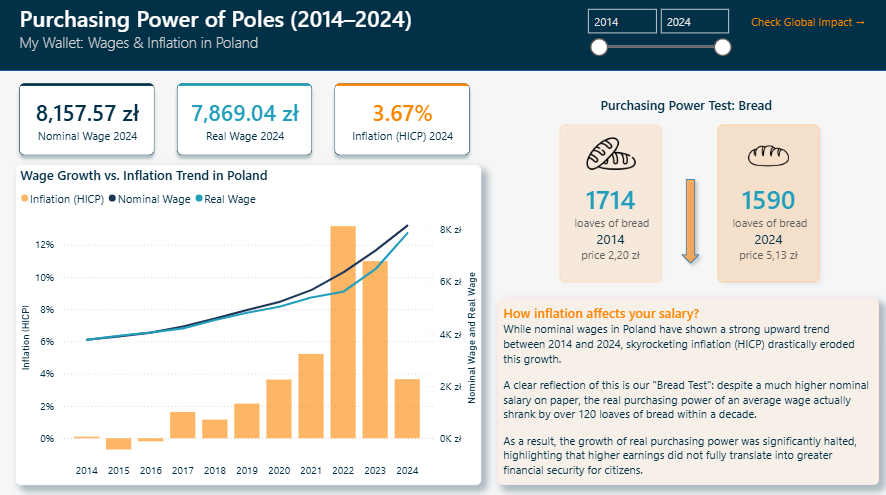

This screenshot's page, from the dashboard's own definition file:
{"tool":"powerbi","page":{"name":"My Wallet: Wages & Inflation in Poland","canvas":[1280,720],"ordinal":0},"visuals":[{"type":"shape","box":[1025.3,171.4,165.6,246.2],"z":0},{"type":"shape","box":[797.8,171.4,165.6,246.2],"z":1000},{"type":"shape","box":[0,0,1280.2,103.7],"z":2000},{"type":"lineClusteredColumnComboChart","title":"Wage Growth vs. Inflation Trend in Poland","fields":{"Category":["Calendar.year"],"Y":["Measures_table.Inflation PL (HICP)"],"Y2":["Measures_table.Nominal Wage (Monthly View)","Measures_table.Real Wage"]},"box":[24.5,239,669.6,460.8],"z":3000},{"type":"cardVisual","fields":{"Data":["Measures_table.Latest Nominal Wage","Measures_table.Latest Yearly Real Wage PLN","Measures_table.Latest Inflation PL"]},"box":[0,92.2,707,162.7],"z":4000},{"type":"slicer","title":"Year","fields":{"Values":["Calendar.year"]},"box":[835.2,4.3,227.5,93.6],"z":5000},{"type":"textbox","box":[24.6,0,655.6,91.8],"z":6000},{"type":"actionButton","box":[1062.7,14.4,204.5,37.4],"z":7000},{"type":"textbox","box":[717.1,430.6,550.1,269.3],"z":8000},{"type":"image","box":[1049.8,194.4,116.6,63.4],"z":9000},{"type":"image","box":[815,187.2,132.5,70.6],"z":10000},{"type":"textbox","box":[1025.3,257.8,165.6,142.6],"z":11000},{"type":"textbox","box":[797.8,257.8,165.6,142.6],"z":12000},{"type":"textbox","box":[861.1,135.4,270.7,34.6],"z":13000},{"type":"shape","box":[973.4,250.6,44.6,139.7],"z":14000}]}

Visuals, with their boxes in screenshot pixels (x1, y1, x2, y2), scaled from the page's 1280x720 canvas onto the 886x495 screenshot:
shape: bbox=[710, 118, 824, 287]
shape: bbox=[552, 118, 667, 287]
shape: bbox=[0, 0, 885, 71]
"Wage Growth vs. Inflation Trend in Poland" lineClusteredColumnComboChart: bbox=[17, 164, 480, 481]
cardVisual - Measures_table.Latest Nominal Wage x Measures_table.Latest Yearly Real Wage PLN: bbox=[0, 63, 489, 175]
"Year" slicer: bbox=[578, 3, 736, 67]
textbox: bbox=[17, 0, 471, 63]
actionButton: bbox=[736, 10, 877, 36]
textbox: bbox=[496, 296, 877, 481]
image: bbox=[727, 134, 807, 177]
image: bbox=[564, 129, 656, 177]
textbox: bbox=[710, 177, 824, 275]
textbox: bbox=[552, 177, 667, 275]
textbox: bbox=[596, 93, 783, 117]
shape: bbox=[674, 172, 705, 268]
